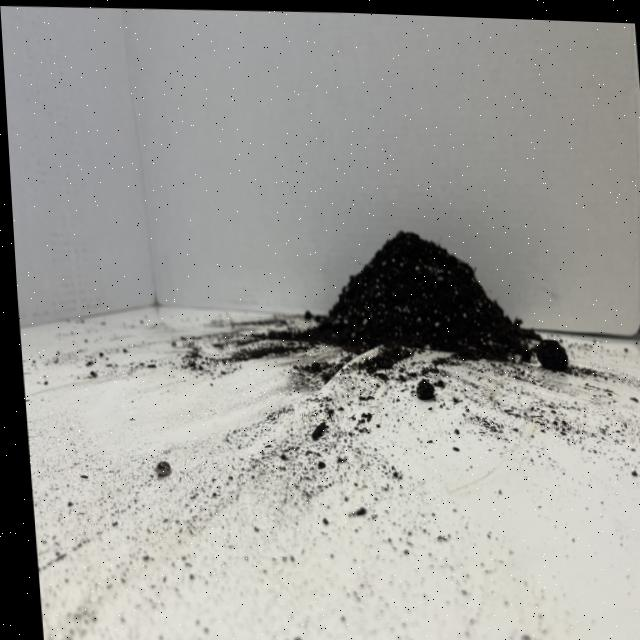soil: (307, 220, 550, 372)
